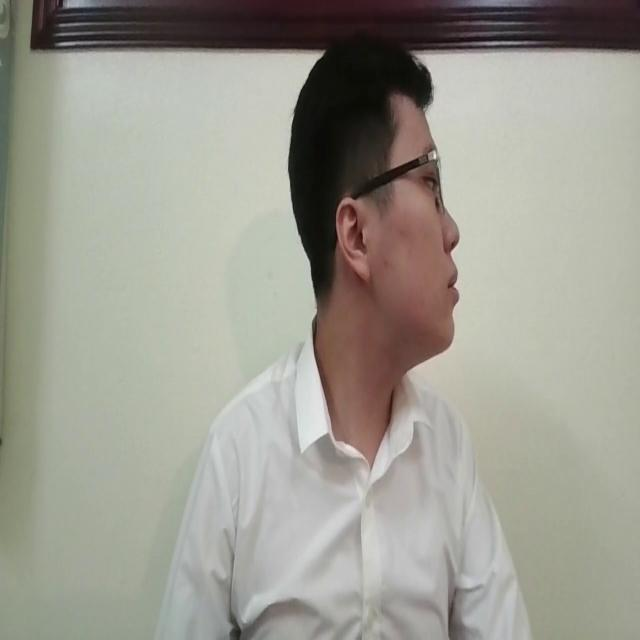student: (161, 18, 529, 640)
